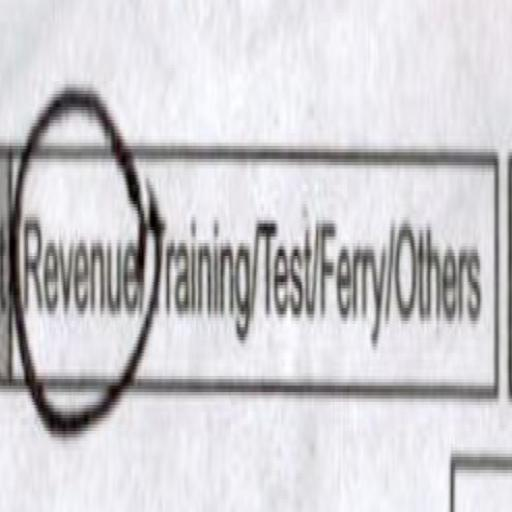check: (16, 79, 154, 455)
